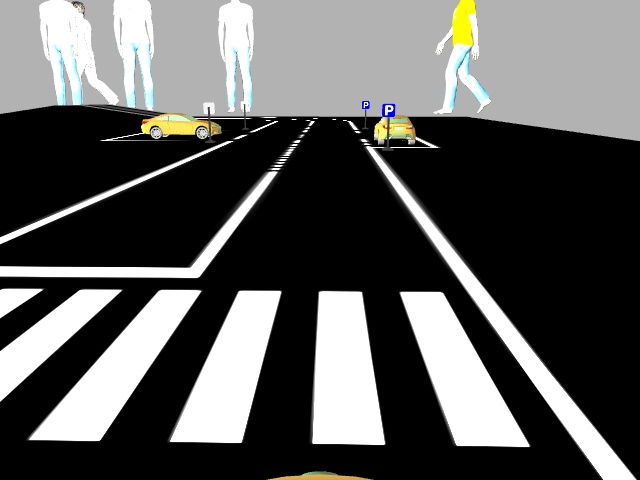Parking: (379, 102, 395, 117), (359, 97, 371, 109)
